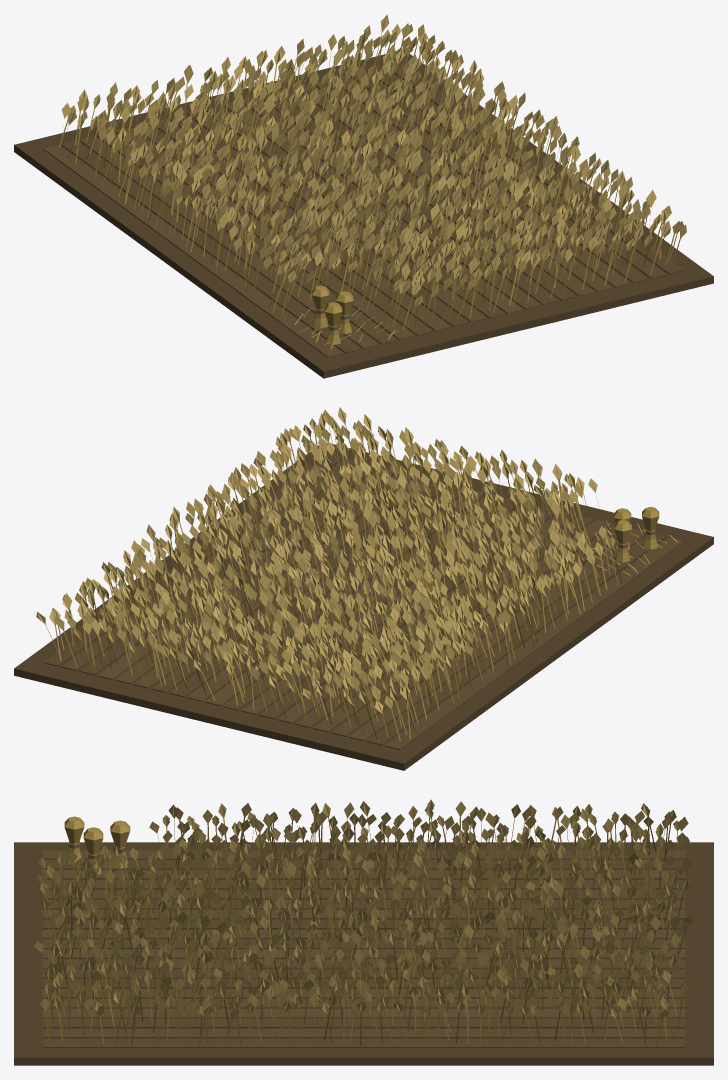
File: WheatField.glb
3 renders of one model, top to bottom at view 1: azimuth 30°, elevation 25°; view 2: azimuth 150°, elevation 25°; view 3: azimuth 270°, elevation 25°, orthographic. The views are drawn at different scales.
Visible parts, largest first — view 1: WheatField; view 2: WheatField; view 3: WheatField.
Boxes of the visible parts, <box> form: WheatField: <box>14,14,713,378</box>; WheatField: <box>14,407,713,770</box>; WheatField: <box>14,799,713,1065</box>.
Size of the model in its own units: 8 by 1.19 by 11.
